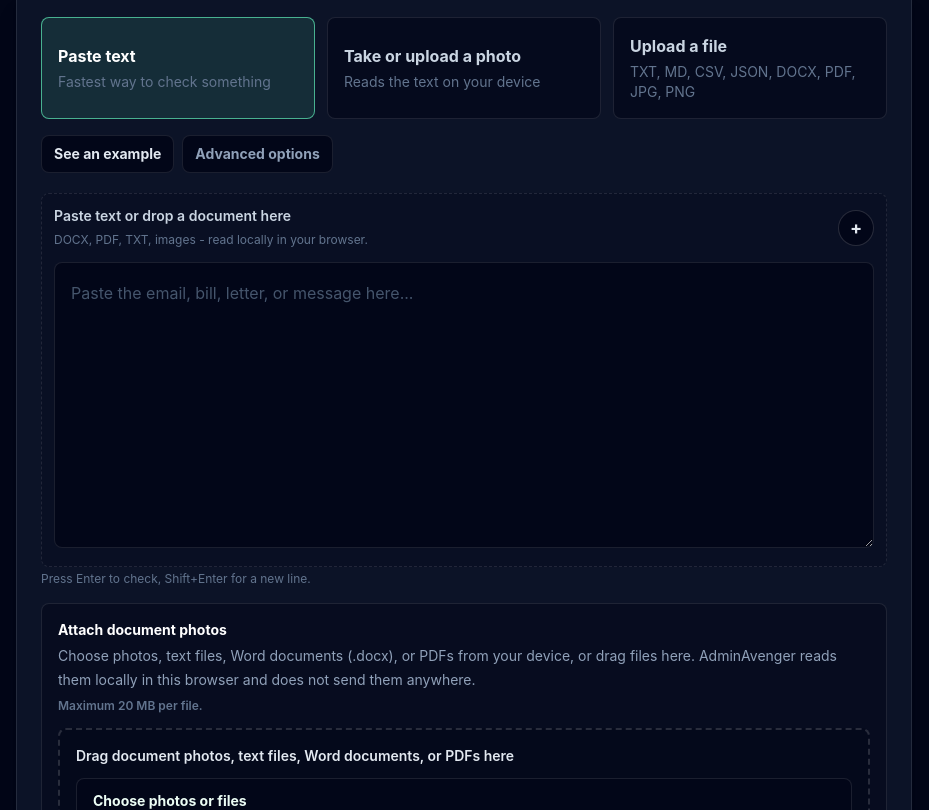
J2: an ambiguous request gets a clarification step › asks rather than guessing
(page scrolled)
Step 1. Type "Help with my brother." into the text box labelled "Paste text or drop a document here" → [464, 405], box x1=54 y1=262 x2=874 y2=548
(page scrolled)
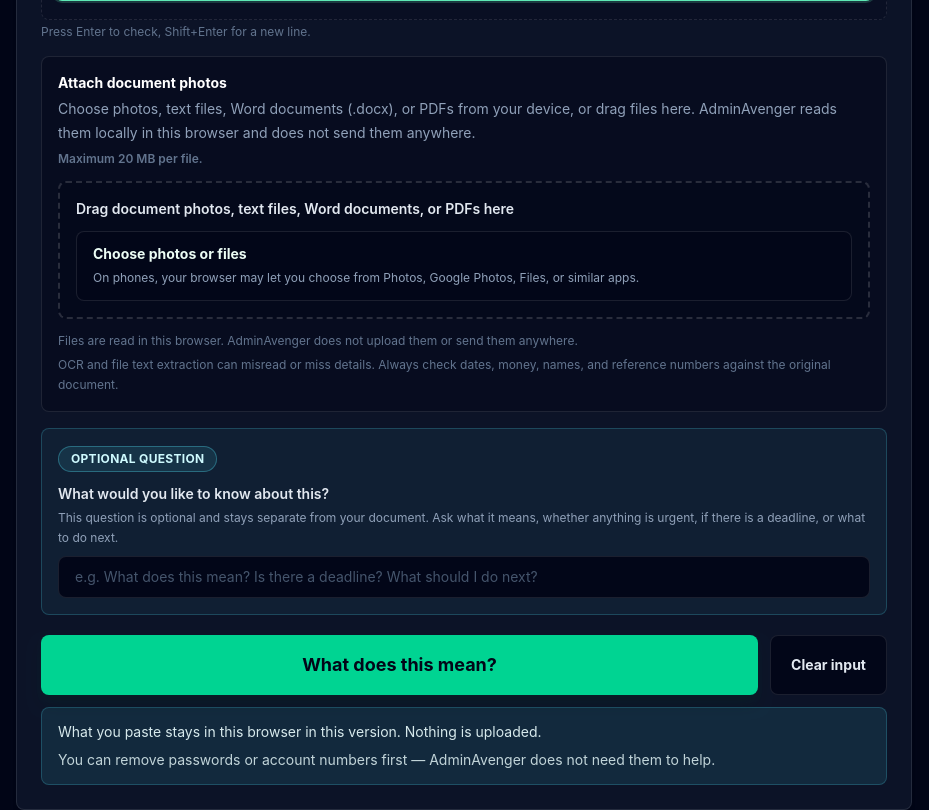
Step 2. Click the button "What does this mean?" → [400, 665], box x1=41 y1=635 x2=758 y2=695
(page scrolled)
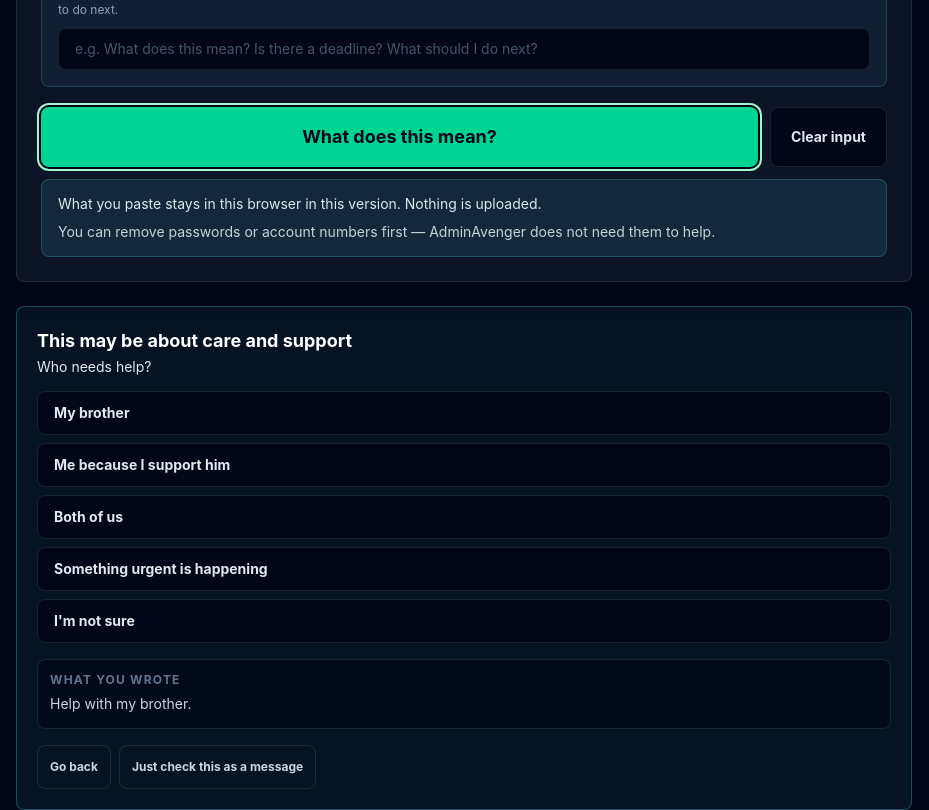
Expected: the text "Who needs help?" is shown, x1=37 y1=355 x2=152 y2=379
Expected: the button "My brother" is shown, x1=37 y1=391 x2=891 y2=435
